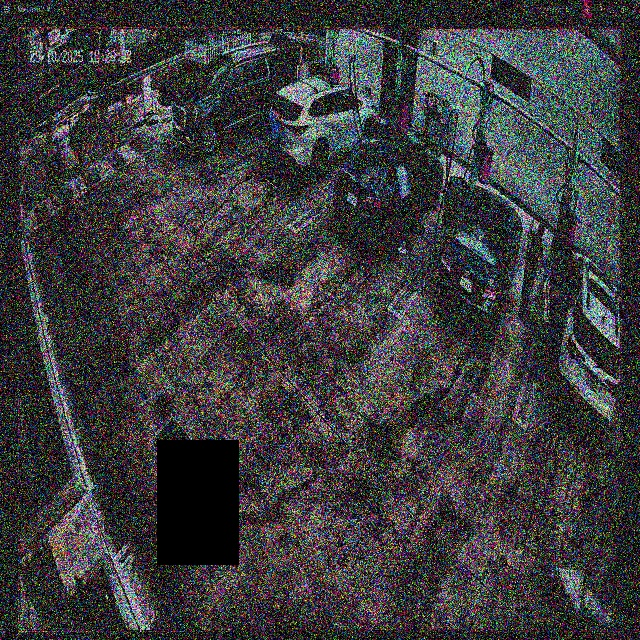Car: (334, 120, 441, 247), (442, 177, 522, 329), (267, 77, 377, 174)
